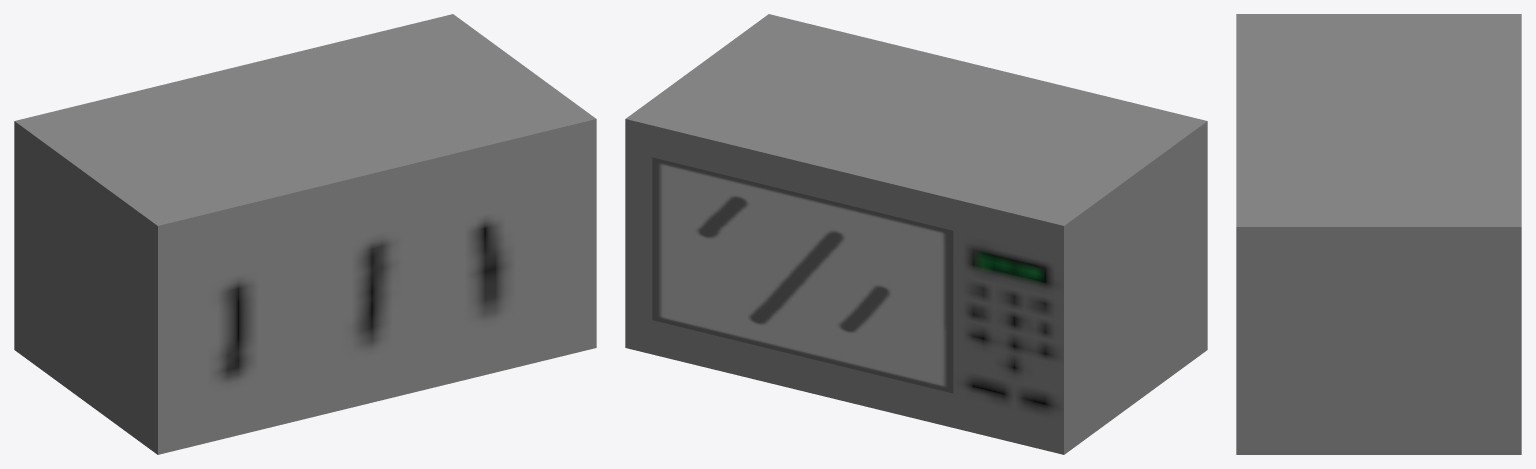
File: microwave 1.fbx
The picture shows the model from 3 angles, left to right: view 1: azimuth 30°, elevation 25°; view 2: azimuth 150°, elevation 25°; view 3: azimuth 270°, elevation 25°; orthographic projection.
Parts seen in each view (by area): view 1: microwave; view 2: microwave, microwaveDoor; view 3: microwave.
Part boxes in pixels (x1,y1,x2,y2): microwave: [14, 14, 596, 454]; microwave: [625, 14, 1207, 454]; microwaveDoor: [652, 157, 953, 393]; microwave: [1236, 14, 1521, 454].
Size of the model in its own units: 54.03 by 26.95 by 30.59.
